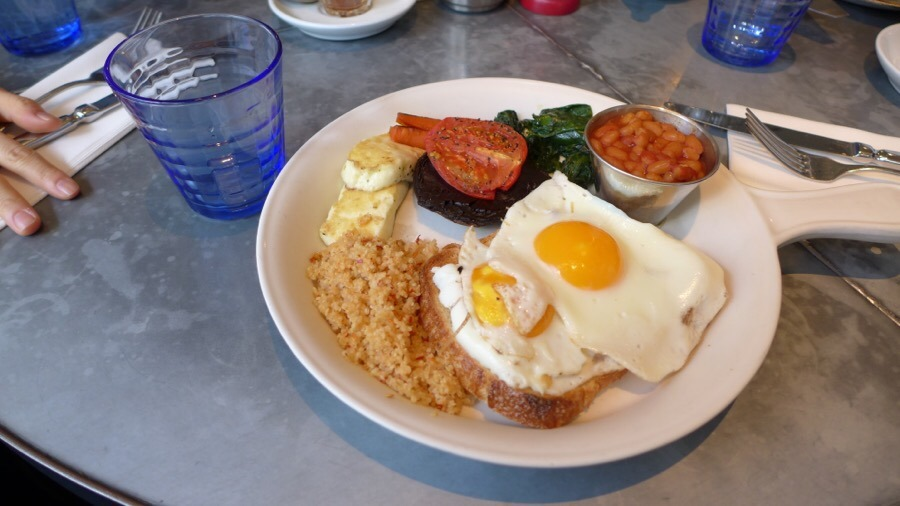fried egg: (518, 212, 691, 328), (461, 257, 577, 368)
glass of water: (105, 31, 296, 224), (710, 1, 799, 79)
plain rice: (318, 245, 441, 371)
slice of bread: (466, 357, 612, 426)
